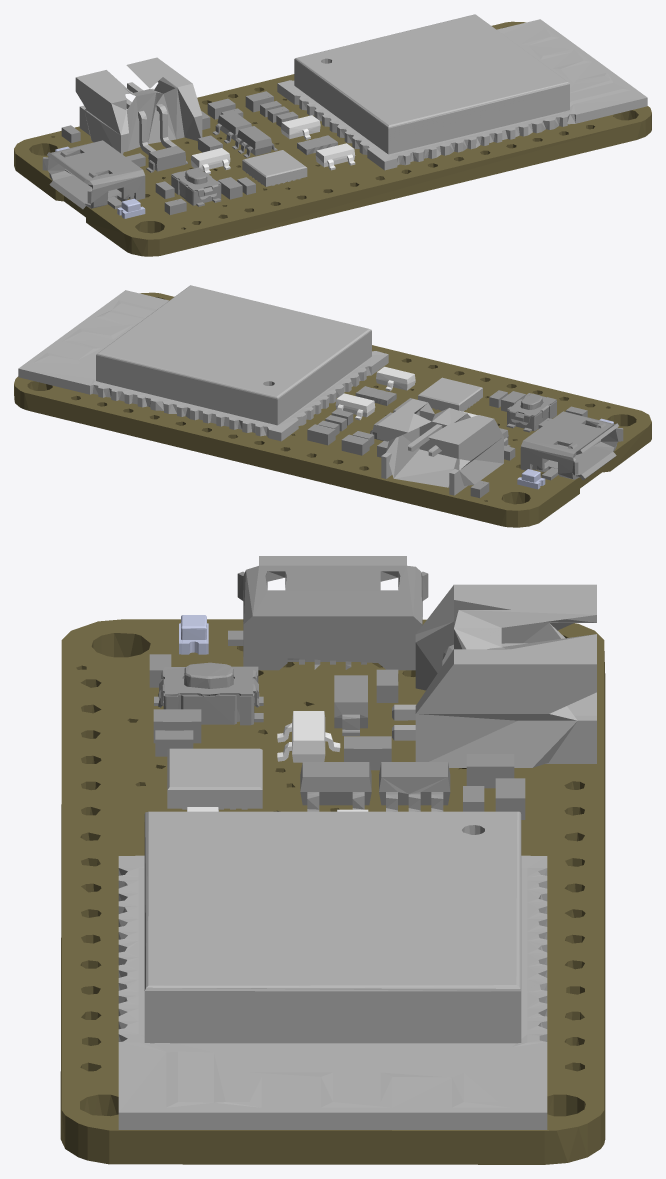
Rendered from adafruit-3405-feather-huzzah32.glb.
3 views of the same model, one above another, from view 1: azimuth 30°, elevation 25°; view 2: azimuth 150°, elevation 25°; view 3: azimuth 270°, elevation 25° (orthographic). The views are drawn at different scales.
Parts seen in each view (by area): view 1: colour 3, colour 1, colour 2, colour 5, colour 4; view 2: colour 3, colour 1, colour 2, colour 5, colour 4; view 3: colour 3, colour 1, colour 2, colour 5, colour 4.
Part boxes in pixels (x1,y1,x2,y2): colour 3: (75, 14, 647, 186); colour 1: (14, 21, 651, 256); colour 2: (42, 91, 337, 214); colour 5: (190, 115, 355, 174); colour 4: (55, 146, 145, 218); colour 3: (18, 285, 503, 495); colour 1: (14, 292, 651, 527); colour 2: (307, 386, 623, 498); colour 5: (335, 366, 477, 420); colour 4: (517, 418, 613, 489); colour 3: (118, 584, 596, 1129); colour 1: (60, 619, 605, 1164); colour 2: (149, 556, 525, 819); colour 5: (187, 711, 368, 811); colour 4: (179, 615, 208, 654).
Size of the model in its own units: 0.0514 by 0.00637 by 0.0229.
